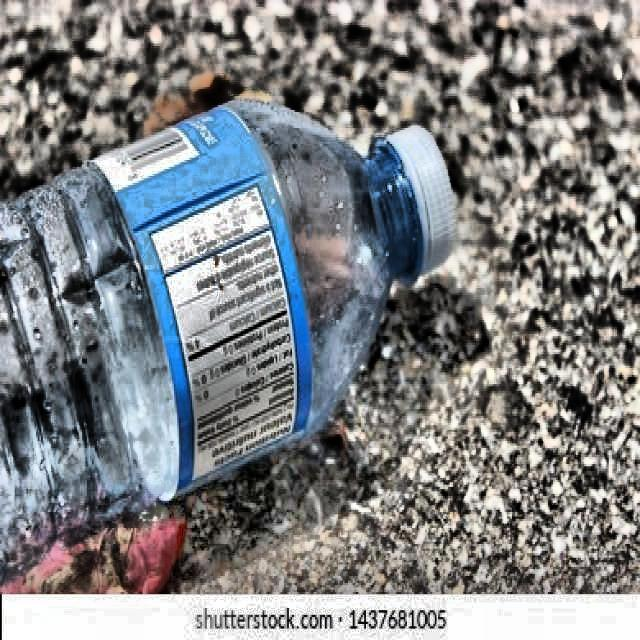plastic bottle: (0, 100, 454, 570)
